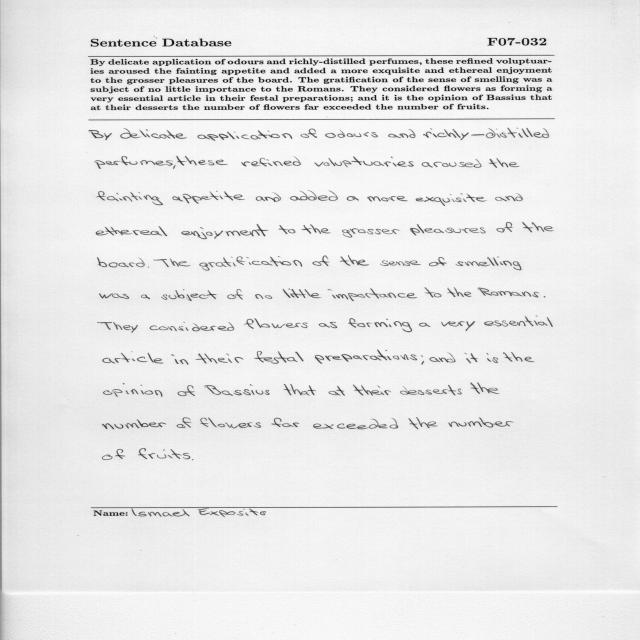word: (315, 350, 424, 365), (200, 256, 303, 271), (423, 128, 549, 140), (181, 224, 269, 239), (328, 289, 417, 302), (315, 157, 414, 168), (95, 156, 176, 169), (198, 130, 292, 141), (172, 191, 245, 204), (314, 418, 399, 429), (97, 191, 163, 205), (456, 257, 522, 271), (416, 193, 487, 206), (348, 318, 412, 332), (410, 224, 486, 235), (103, 351, 163, 364), (205, 384, 270, 396), (104, 383, 163, 396), (484, 316, 553, 327), (150, 322, 234, 331), (120, 128, 187, 139), (96, 226, 167, 236), (245, 318, 308, 329), (200, 418, 261, 429), (162, 289, 217, 301), (254, 351, 304, 364), (449, 418, 514, 428), (103, 419, 167, 429), (400, 385, 462, 395), (478, 288, 539, 298), (241, 157, 301, 167), (98, 257, 150, 268), (138, 448, 190, 459), (422, 159, 482, 168), (290, 190, 338, 201), (342, 229, 400, 238), (196, 354, 243, 364), (98, 322, 138, 333), (325, 130, 378, 138), (353, 385, 391, 396), (185, 156, 228, 165), (283, 289, 321, 299), (284, 384, 316, 395), (409, 418, 438, 430), (441, 321, 475, 331), (522, 222, 554, 232), (503, 352, 535, 362), (340, 255, 369, 266), (471, 383, 500, 394), (489, 158, 520, 168), (301, 224, 331, 234), (102, 449, 125, 460), (388, 129, 416, 138), (271, 418, 299, 427), (256, 192, 281, 202), (367, 196, 408, 202), (380, 260, 421, 266), (89, 130, 112, 140), (495, 194, 523, 202), (448, 288, 472, 297), (171, 354, 189, 365), (497, 222, 514, 233), (178, 385, 195, 396), (312, 256, 330, 266), (99, 293, 129, 299), (227, 289, 243, 300), (425, 288, 442, 298), (439, 353, 456, 363), (170, 259, 191, 267), (177, 417, 192, 428), (301, 128, 317, 138), (329, 386, 345, 396), (279, 225, 296, 234), (429, 257, 446, 266), (464, 353, 478, 363), (153, 259, 169, 267), (486, 353, 498, 363), (319, 322, 337, 328), (176, 156, 187, 165), (255, 294, 272, 299), (347, 196, 359, 201), (430, 357, 441, 362), (419, 323, 430, 327), (141, 295, 150, 299), (544, 296, 545, 298), (192, 460, 194, 461)
